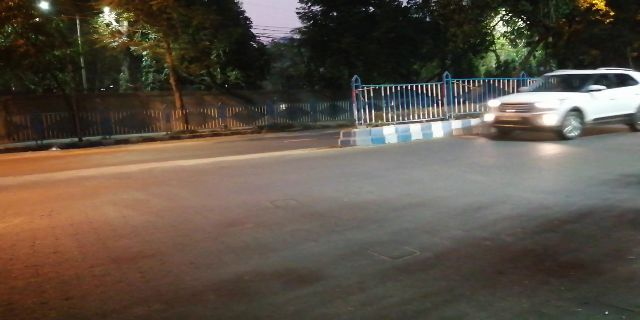Car: (482, 66, 637, 151)
